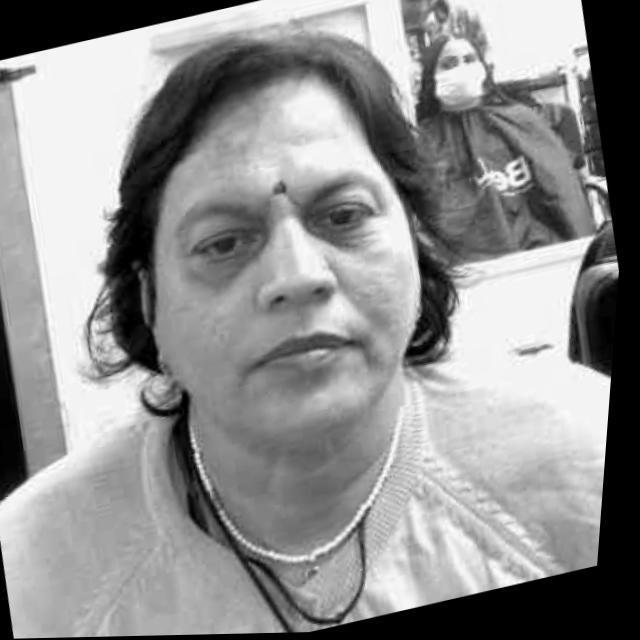puffy_eyes: (196, 231, 270, 284), (317, 224, 387, 259)
